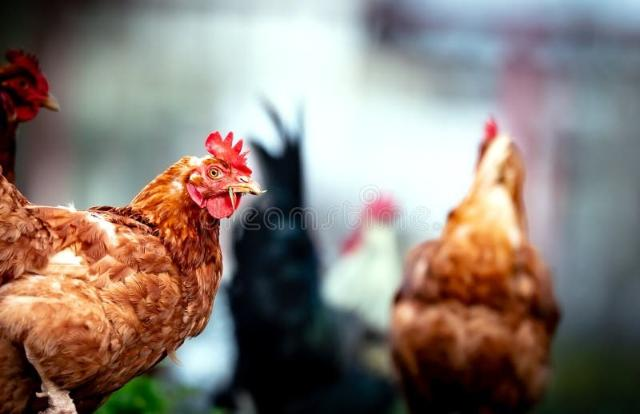Chicken: (0, 131, 262, 414), (222, 99, 406, 414), (392, 116, 563, 414), (0, 45, 59, 182)
